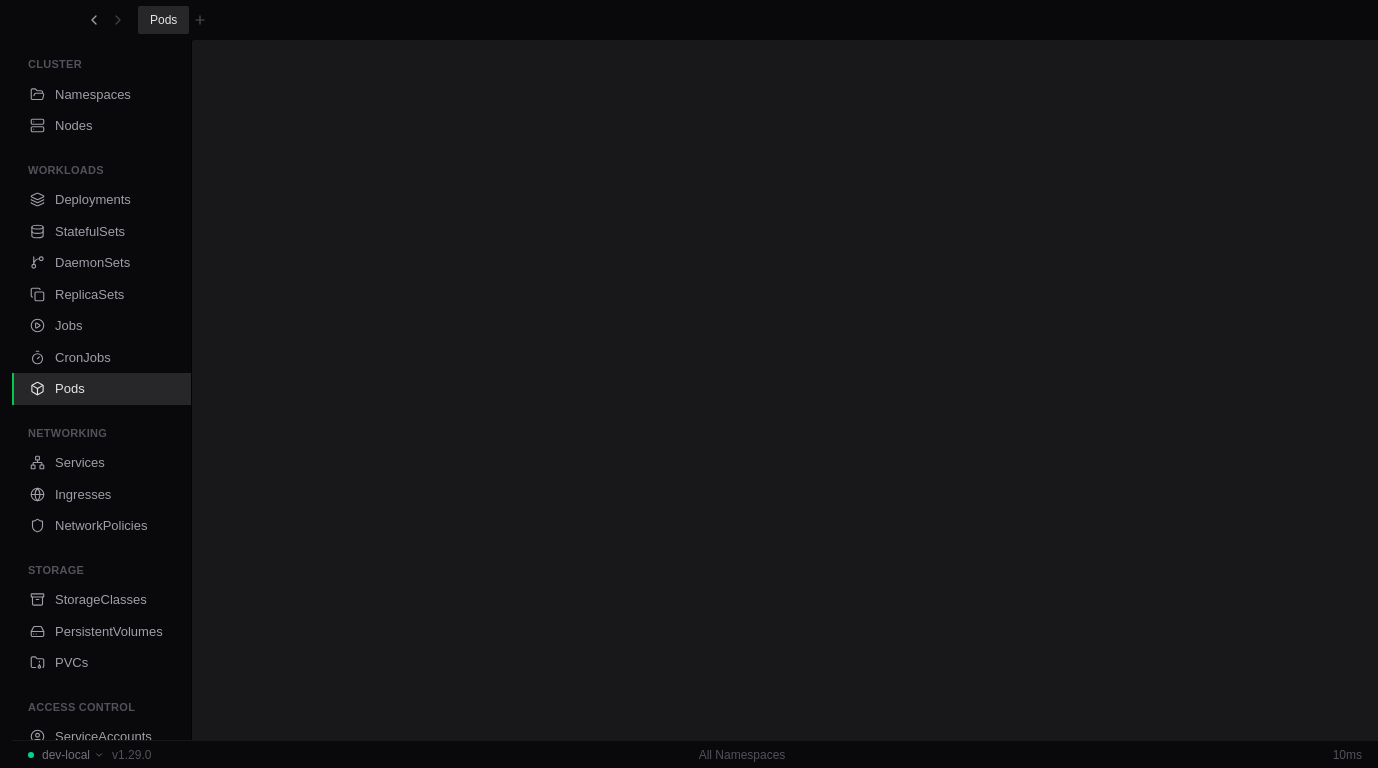
Scenario: PVCDetailView › displays storage class and volume mode
The image size is (1378, 768).
Step 1. Click the button "PVCs" → [102, 663], box [12, 647, 191, 678]
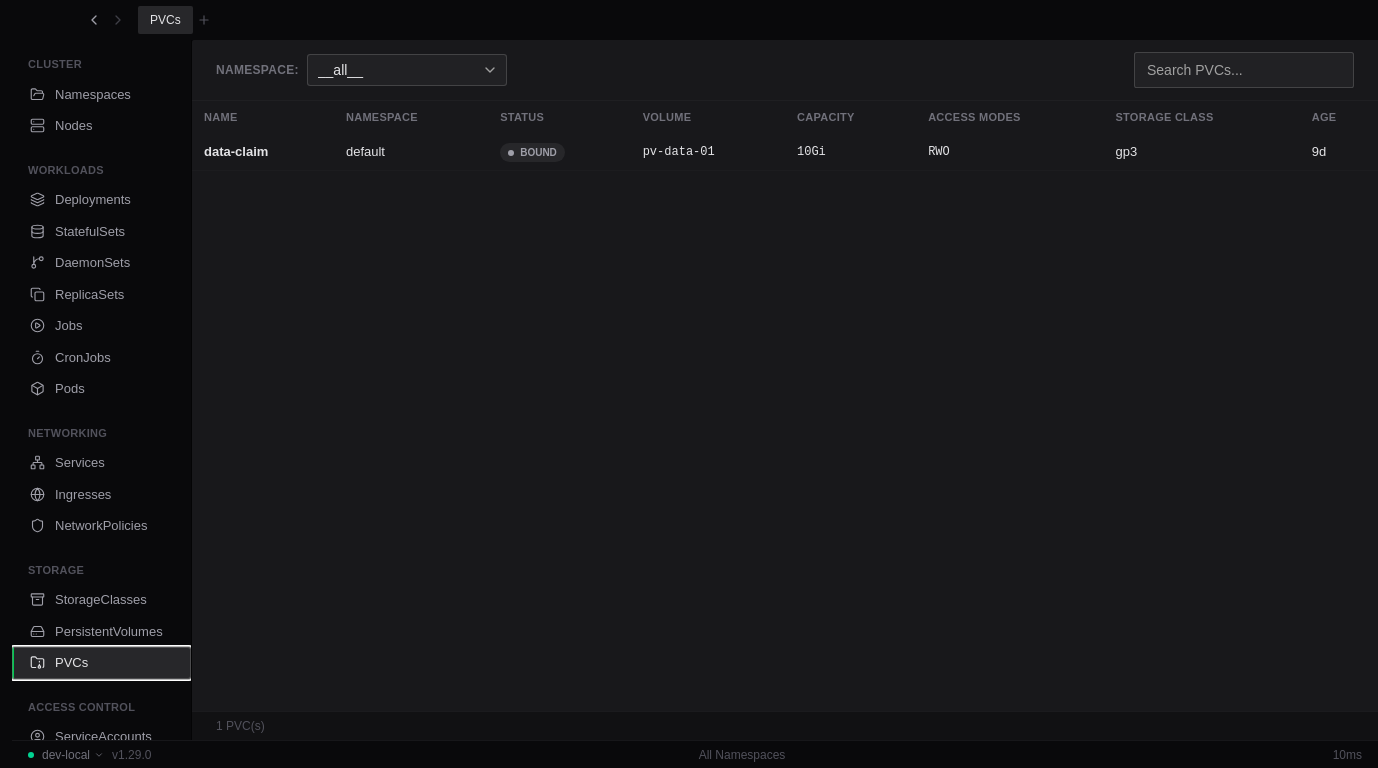
expect the text "data-claim" is shown: met
Step 2. Click the text "data-claim" → [263, 152], box [192, 134, 334, 170]
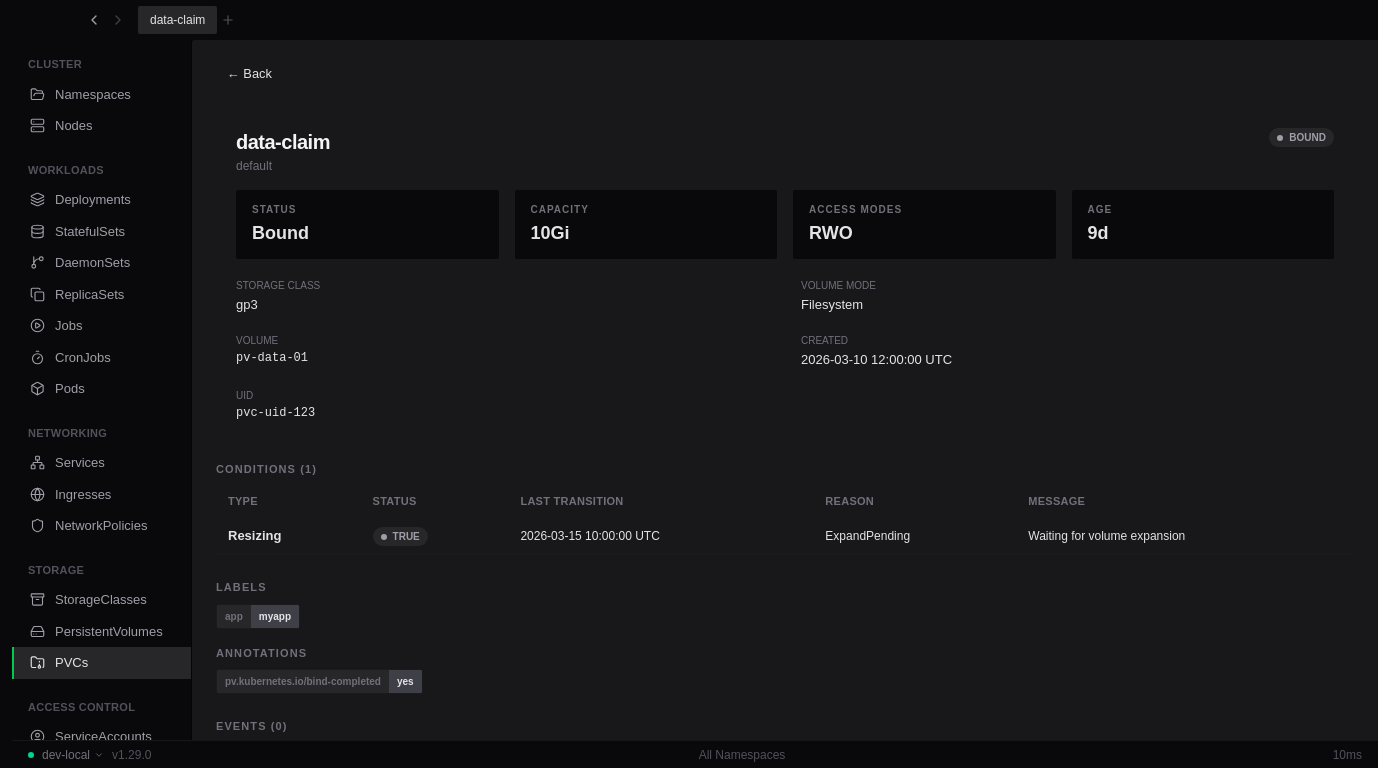
expect the text "Storage Class" is shown: met, box [236, 280, 320, 291]
expect the text "gp3" is shown: met, box [236, 296, 258, 312]
expect the text "Volume Mode" is shown: met, box [801, 280, 876, 291]
